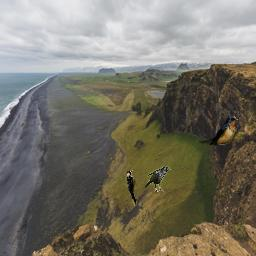Crow: (145, 166, 171, 192)
Swallow: (199, 115, 239, 145)
Woodpecker: (125, 168, 138, 208)
